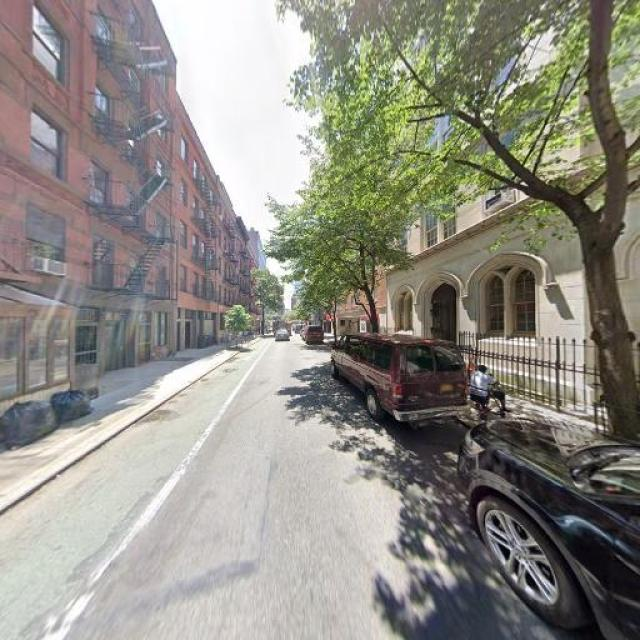Building: (390, 1, 640, 440), (1, 1, 168, 417)
